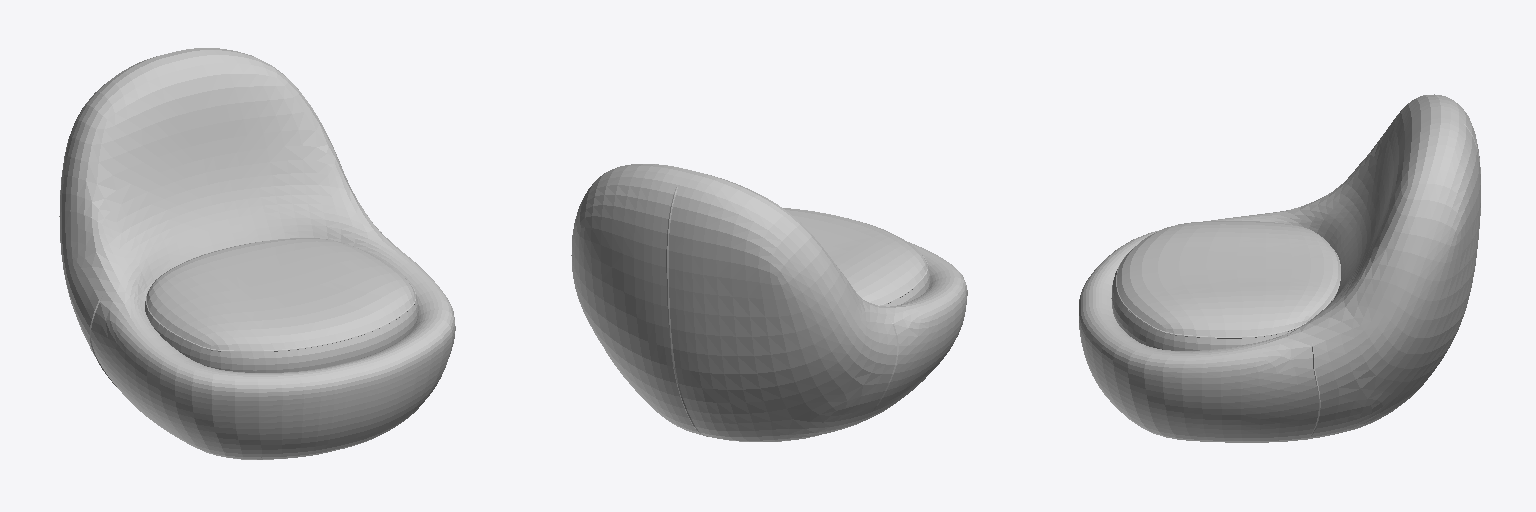
Rendered from Couch.obj.
3 views of the same model, side by side, from view 1: azimuth 30°, elevation 25°; view 2: azimuth 150°, elevation 25°; view 3: azimuth 270°, elevation 25° (orthographic).
Visible parts, largest first — view 1: SM_Sessel_194; view 2: SM_Sessel_194; view 3: SM_Sessel_194.
Part boxes in pixels (x1,y1,x2,y2): SM_Sessel_194: (59,48,455,459); SM_Sessel_194: (571,164,967,441); SM_Sessel_194: (1079,94,1480,442).
Size of the model in its own units: 79.14 by 71.27 by 91.6.